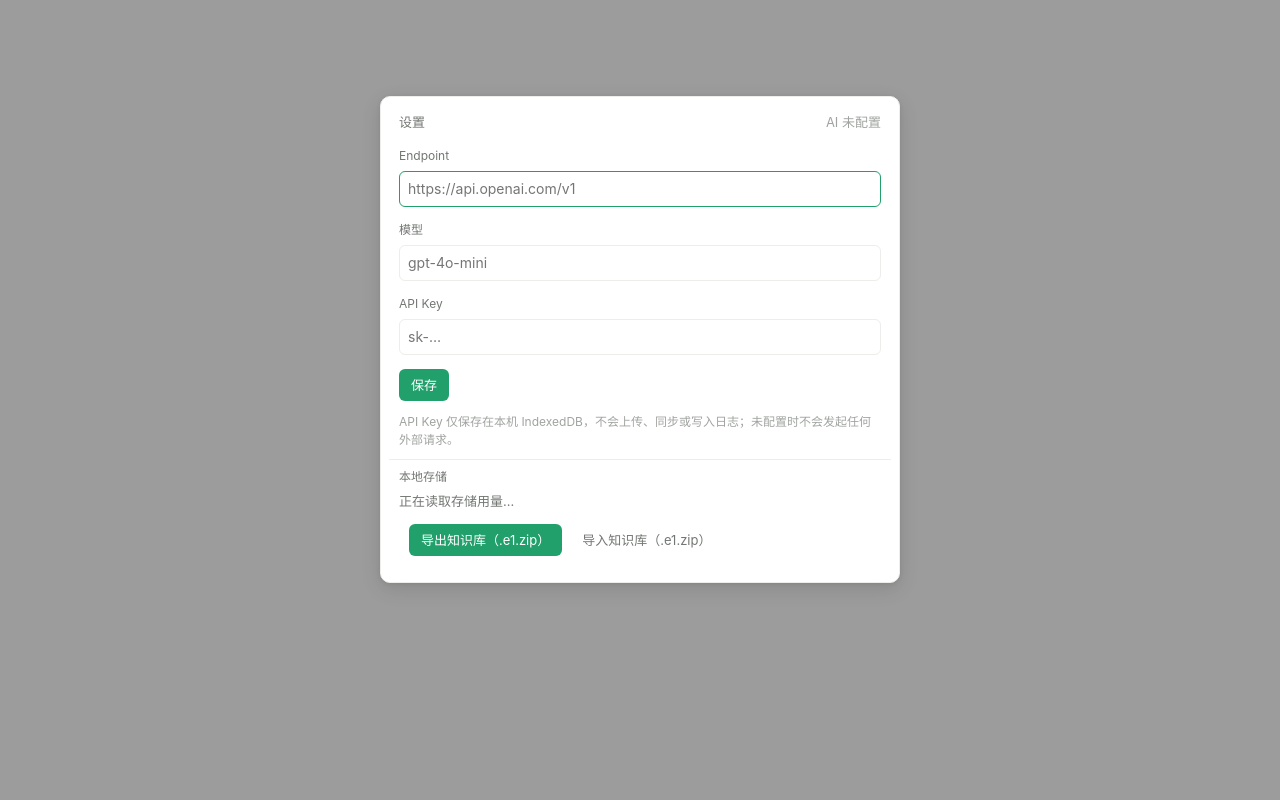
SettingsPanel 知识库导入（R005 阶段 7B） › 选择文件 → 导入 → 展示摘要，新知识库落库并出现在列表镜像
Click the button "导入知识库（.e1.zip）". click: (647, 540)
box: [570,524,723,556]
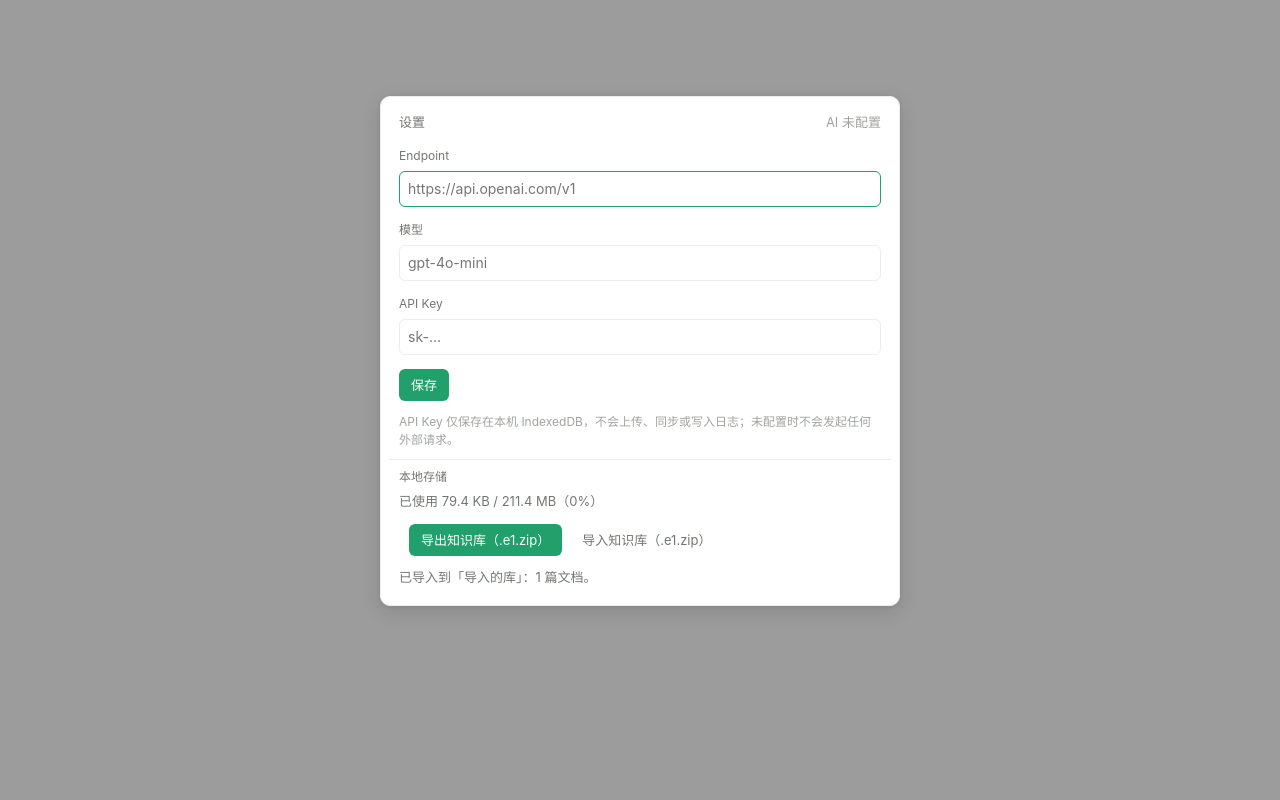
expect the text "已导入到「导入的库」：1 篇文档。" is shown: met, box [399,568,596,584]
